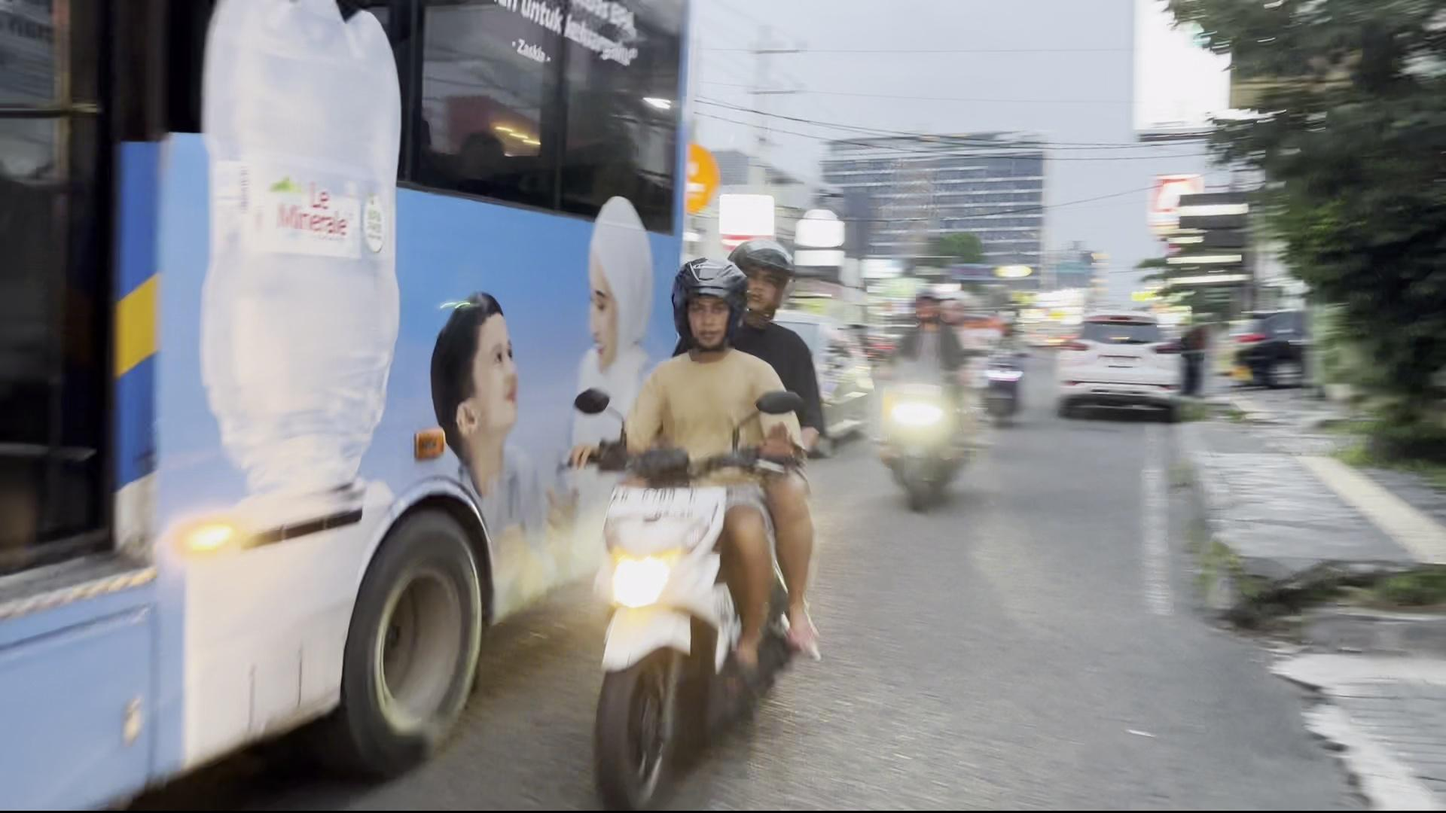helm: (665, 249, 753, 357), (731, 234, 805, 329)
riding: (564, 232, 828, 813)
